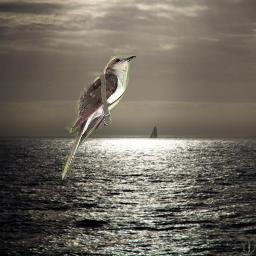Cuckoo: (62, 55, 136, 180)
